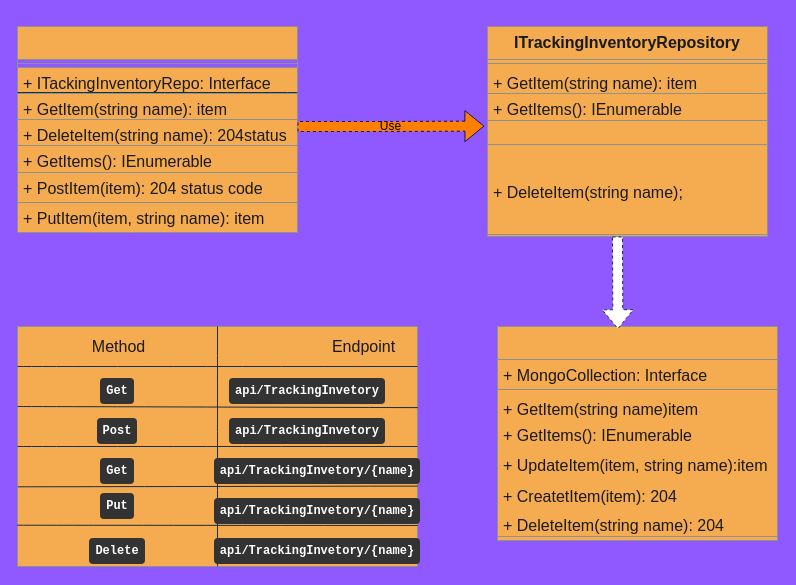
This 796x585 diagram has some shape labels left out. Here are the shapes that lost their labels. From the top down, the box of each, then its label:
(16, 26, 298, 232): TrackingInventoryController
(486, 120, 768, 145): + UpdateItem(item, string name):204
(486, 144, 768, 235): + CreatetItem(item);
(496, 326, 778, 536): TrackingInventoryRepository
